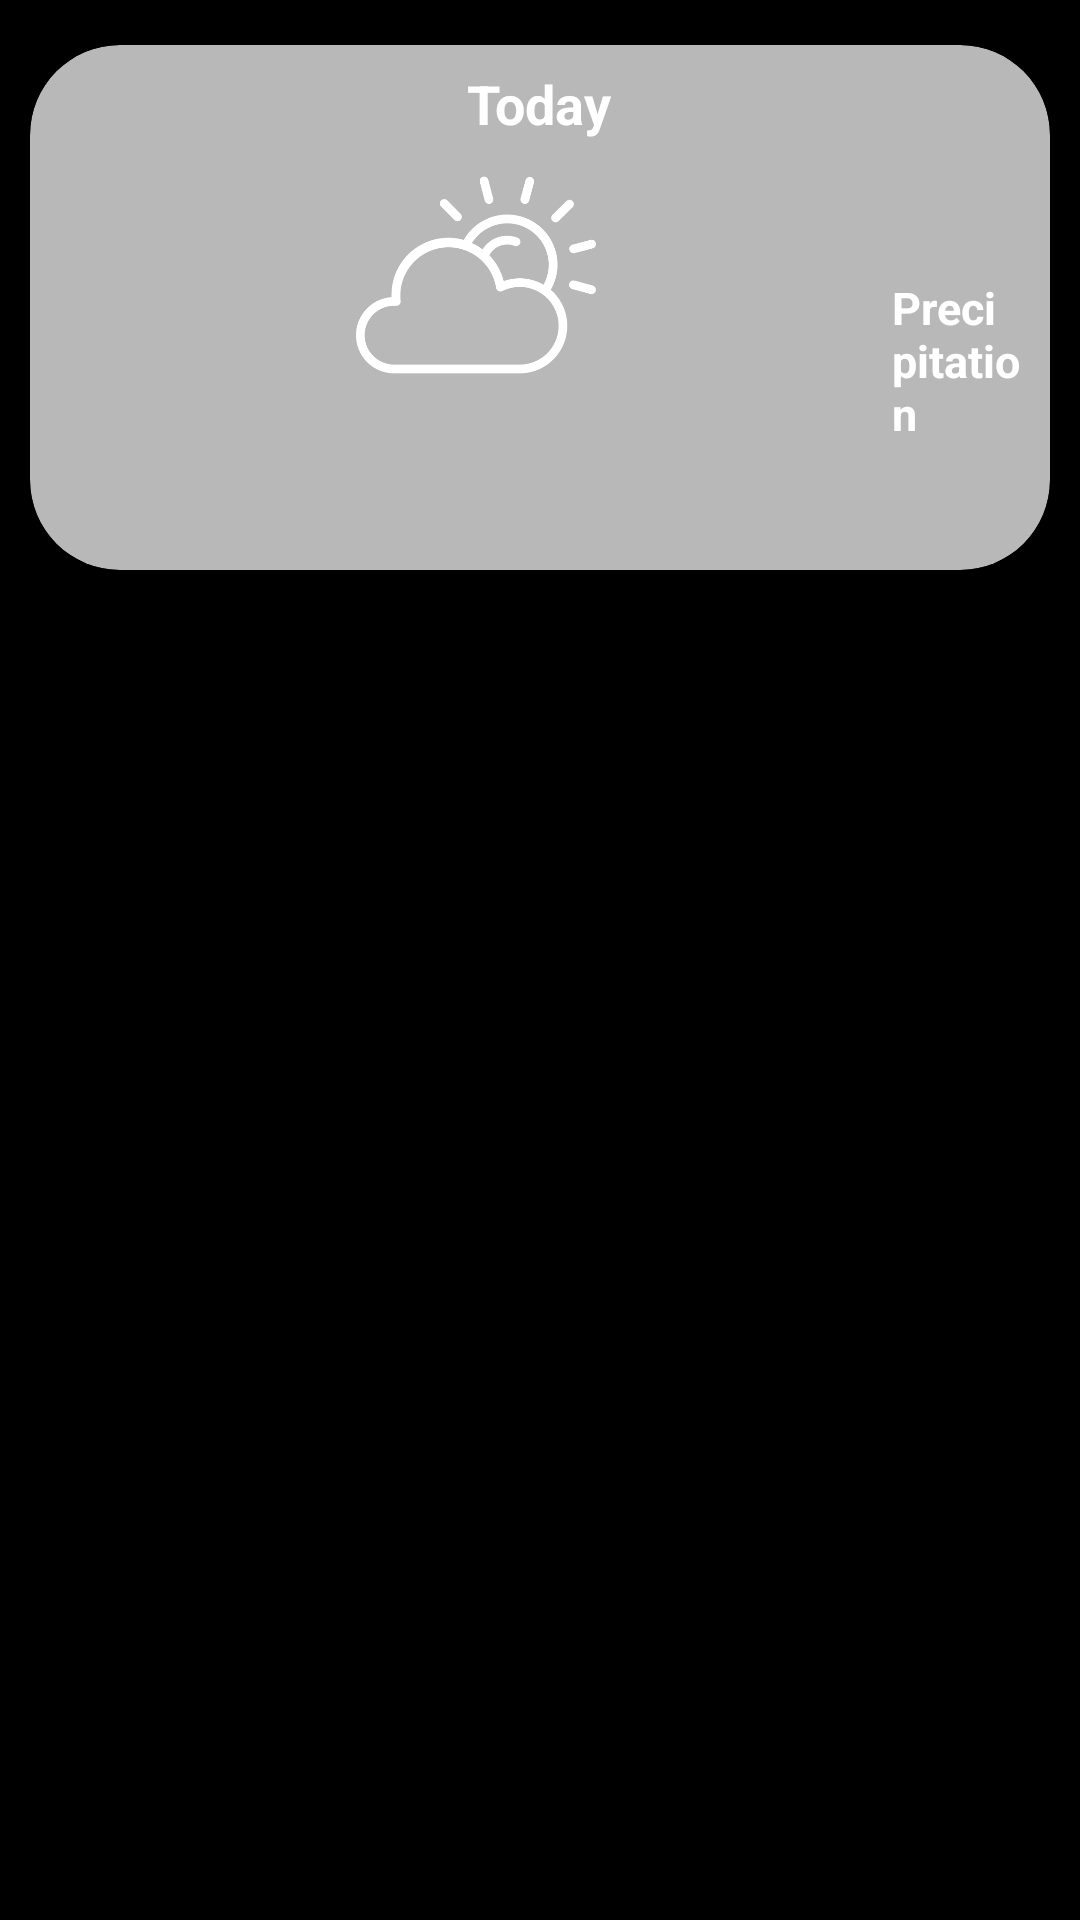

Icon bounding boxes for this 1080x1920 phone screenshot, format (x1, y1, x2, y2):
Cloud Cover: (356, 177, 596, 373)
